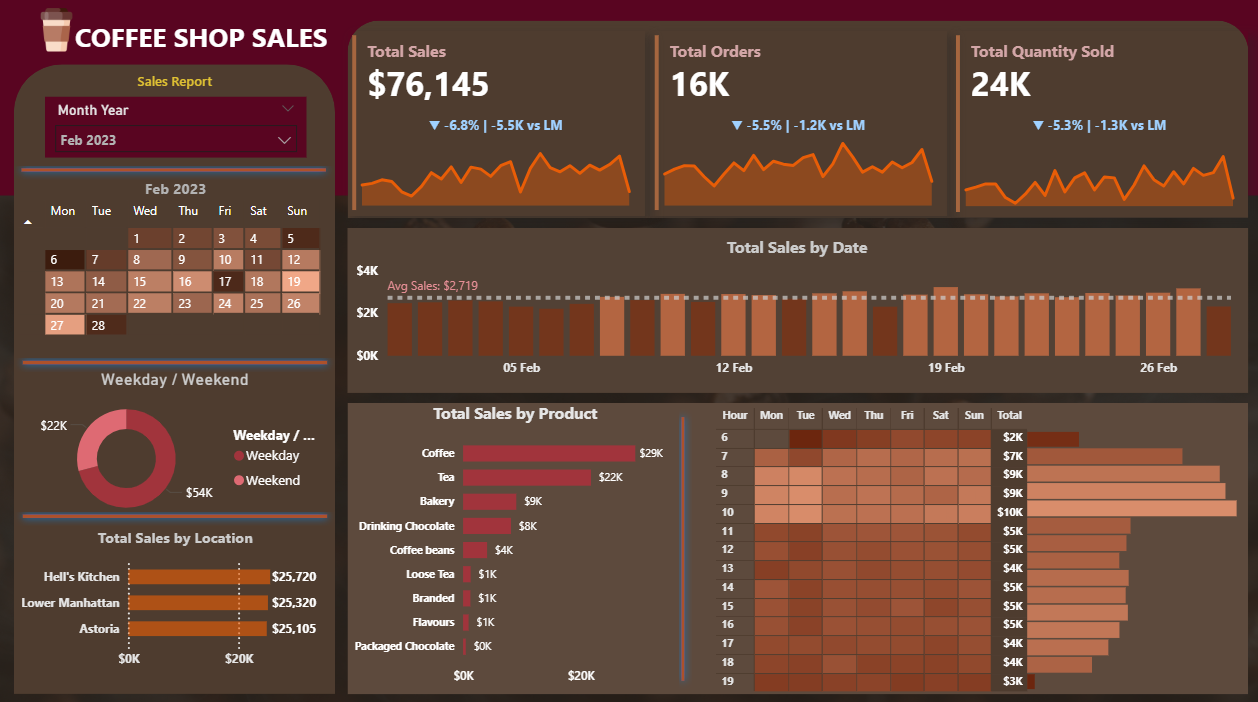

The page's visual inventory and layout, read from the dashboard file:
{"tool":"powerbi","page":{"name":"Page 1","canvas":[1280,720],"ordinal":0},"visuals":[{"type":"shape","box":[0,0,1280.5,200],"z":0},{"type":"shape","box":[13.8,67.7,325.4,637.7],"z":1000},{"type":"shape","box":[351.9,22.2,912.3,200],"z":2000},{"type":"textbox","box":[71.3,15.9,276.2,45.4],"z":3000,"group":"g4"},{"type":"slicer","fields":{"Values":["Date Table.Month Year"]},"box":[45,100,265,61.2],"z":3000},{"type":"group","id":"g1","title":"Group 1","box":[352.1,33.1,300.6,187.7],"z":4000},{"type":"cardVisual","fields":{"Data":["Transactions.Total Sales"]},"box":[352.1,33.1,300.6,188],"z":4000,"group":"g1"},{"type":"cardVisual","fields":{"Data":["Transactions.Total Orders"]},"box":[657.7,33.1,300.6,188],"z":4000,"group":"g2"},{"type":"cardVisual","fields":{"Data":["Transactions.Total Quantity Sold"]},"box":[963.2,33.1,300.6,189.1],"z":4000,"group":"g3"},{"type":"group","id":"g2","title":"Group 1","box":[657.7,33.1,300.6,187.7],"z":5000},{"type":"lineChart","fields":{"Category":["Date Table.Date.Variation.Date Hierarchy.Year","Date Table.Date.Variation.Date Hierarchy.Quarter","Date Table.Date.Variation.Date Hierarchy.Month","Date Table.Date.Variation.Date Hierarchy.Day"],"Y":["Transactions.Total Sales"]},"box":[352.1,118.9,300.6,96.2],"z":5001,"group":"g1"},{"type":"lineChart","fields":{"Category":["Date Table.Date.Variation.Date Hierarchy.Year","Date Table.Date.Variation.Date Hierarchy.Quarter","Date Table.Date.Variation.Date Hierarchy.Month","Date Table.Date.Variation.Date Hierarchy.Day"],"Y":["Transactions.Total Orders"]},"box":[657.7,118.9,300.6,96.2],"z":5001,"group":"g2"},{"type":"lineChart","fields":{"Category":["Date Table.Date.Variation.Date Hierarchy.Year","Date Table.Date.Variation.Date Hierarchy.Quarter","Date Table.Date.Variation.Date Hierarchy.Month","Date Table.Date.Variation.Date Hierarchy.Day"],"Y":["Transactions.Total Quantity Sold"]},"box":[963.2,119.5,300.6,96.8],"z":5001,"group":"g3"},{"type":"group","id":"g3","title":"Group 1","box":[963.2,33.1,300.6,187.7],"z":6000},{"type":"pivotTable","fields":{"Rows":["Date Table.Week Number"],"Columns":["Date Table.Day Name"],"Values":["Min(Date Table.Day Number)"]},"box":[14.1,200,315.2,175],"z":7000},{"type":"card","fields":{"Values":["Min(Date Table.Month Year)"]},"box":[117.3,180,120.9,31.4],"z":8000},{"type":"donutChart","title":"Weekday / Weekend","fields":{"Category":["Date Table.Weekday / Weekend"],"Y":["Transactions.Total Sales"]},"box":[14.7,375.5,323.9,162],"z":9000},{"type":"image","box":[30.3,3.7,53.8,56.9],"z":10000,"group":"g4"},{"type":"clusteredBarChart","title":"Total Sales by Location","fields":{"Category":["Transactions.store_location"],"Y":["Transactions.Total Sales"]},"box":[15,535,325,152],"z":10000},{"type":"shape","box":[352,233,912,167],"z":11000},{"type":"columnChart","title":"Total Sales by Date","fields":{"Category":["Transactions.transaction_date"],"Y":["Transactions.Total Sales"]},"box":[356,241,903,152],"z":12000},{"type":"shape","box":[14.1,164.5,324.1,19.1],"z":13000},{"type":"shape","box":[15.3,360,324,19.3],"z":14000},{"type":"shape","box":[14.7,515.3,324,19.3],"z":15000},{"type":"shape","box":[352,410,912,295],"z":16000},{"type":"barChart","title":"Total Sales by Product","fields":{"Category":["Transactions.product_category"],"Y":["Transactions.Total Sales"]},"box":[352.9,408.6,337.1,295.7],"z":17000},{"type":"pivotTable","fields":{"Rows":["Transactions.Hour"],"Columns":["Date Table.Day Name"],"Values":["Transactions.Total Sales"]},"box":[720.8,410,325,310],"z":18000},{"type":"barChart","fields":{"Category":["Transactions.Hour"],"Y":["Transactions.Total Sales"]},"box":[1035.4,426.6,229.1,278.5],"z":19000},{"type":"shape","box":[682.1,416.4,18.6,282.9],"z":20000},{"type":"group","id":"g4","title":"Group 2","box":[30.3,3.7,317.2,57.6],"z":21000},{"type":"textbox","box":[131.5,70,90.8,30],"z":22000}]}

Visuals, with their boxes in screenshot pixels (x1, y1, x2, y2), scaled from the page's 1280x720 canvas onto the 1258x702 screenshot:
shape: region(0, 0, 1257, 195)
shape: region(14, 66, 333, 688)
shape: region(346, 22, 1242, 217)
textbox: region(70, 16, 342, 60)
slicer - Date Table.Month Year: region(44, 98, 305, 157)
"Group 1" group: region(346, 32, 641, 215)
cardVisual - Transactions.Total Sales: region(346, 32, 641, 216)
cardVisual - Transactions.Total Orders: region(646, 32, 942, 216)
cardVisual - Transactions.Total Quantity Sold: region(947, 32, 1242, 217)
"Group 1" group: region(646, 32, 942, 215)
lineChart - Date Table.Date.Variation.Date Hierarchy.Year x Date Table.Date.Variation.Date Hierarchy.Quarter: region(346, 116, 641, 210)
lineChart - Date Table.Date.Variation.Date Hierarchy.Year x Date Table.Date.Variation.Date Hierarchy.Quarter: region(646, 116, 942, 210)
lineChart - Date Table.Date.Variation.Date Hierarchy.Year x Date Table.Date.Variation.Date Hierarchy.Quarter: region(947, 117, 1242, 211)
"Group 1" group: region(947, 32, 1242, 215)
pivotTable - Date Table.Week Number x Date Table.Day Name: region(14, 195, 324, 366)
card - Min(Date Table.Month Year): region(115, 176, 234, 206)
"Weekday / Weekend" donutChart: region(14, 366, 333, 524)
image: region(30, 4, 83, 59)
"Total Sales by Location" clusteredBarChart: region(15, 522, 334, 670)
shape: region(346, 227, 1242, 390)
"Total Sales by Date" columnChart: region(350, 235, 1237, 383)
shape: region(14, 160, 332, 179)
shape: region(15, 351, 333, 370)
shape: region(14, 502, 333, 521)
shape: region(346, 400, 1242, 687)
"Total Sales by Product" barChart: region(347, 398, 678, 687)
pivotTable - Transactions.Hour x Date Table.Day Name: region(708, 400, 1028, 701)
barChart - Transactions.Hour x Transactions.Total Sales: region(1018, 416, 1243, 687)
shape: region(670, 406, 689, 682)
"Group 2" group: region(30, 4, 342, 60)
textbox: region(129, 68, 218, 98)
